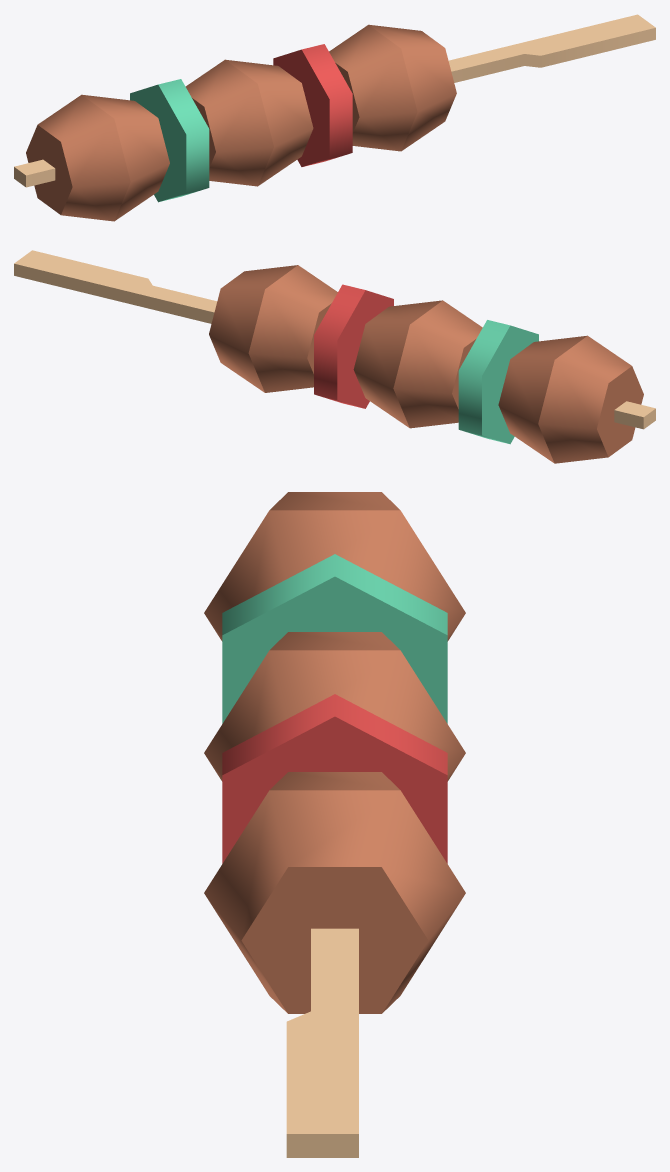
The model's file is skewerVegetables.fbx.
3 views of the same model, one above another, from view 1: azimuth 30°, elevation 25°; view 2: azimuth 150°, elevation 25°; view 3: azimuth 270°, elevation 25° (orthographic). The views are drawn at different scales.
Parts seen in each view (by area): view 1: meat (×3), vegetables (×2), skewerVegetables; view 2: meat (×3), vegetables (×2), skewerVegetables; view 3: meat (×3), vegetables (×2), skewerVegetables.
Part boxes in pixels (x1,y1,x2,y2): meat (×3): (26, 24, 456, 221); vegetables (×2): (130, 44, 352, 202); skewerVegetables: (14, 14, 655, 187); meat (×3): (209, 265, 643, 463); vegetables (×2): (314, 284, 538, 444); skewerVegetables: (14, 250, 655, 429); meat (×3): (204, 492, 465, 1013); vegetables (×2): (222, 554, 447, 863); skewerVegetables: (286, 928, 358, 1157).
Size of the model in its own units: 5.97 by 1.08 by 1.09.
